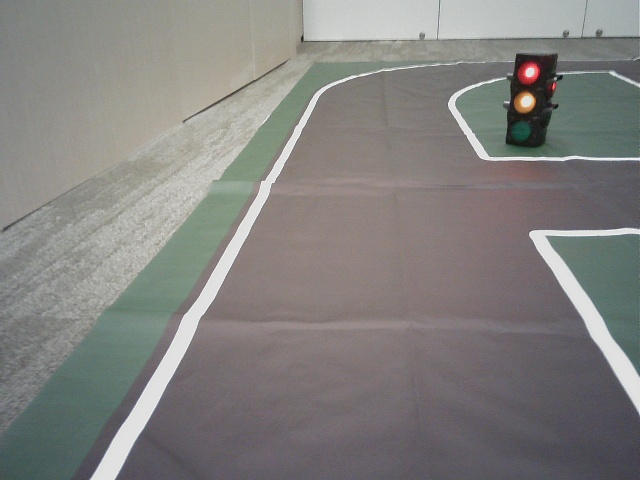red: (510, 57, 541, 142)
